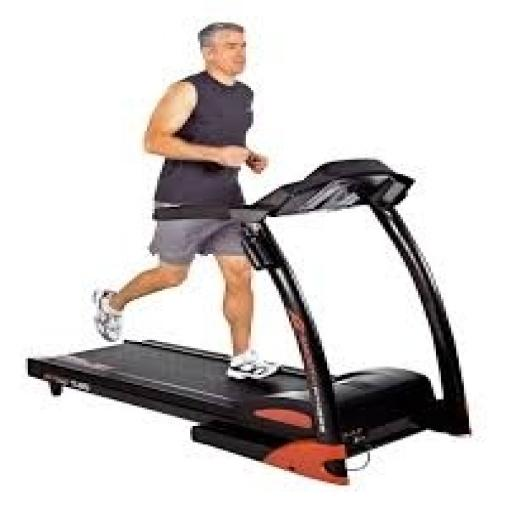running: (89, 18, 286, 383)
